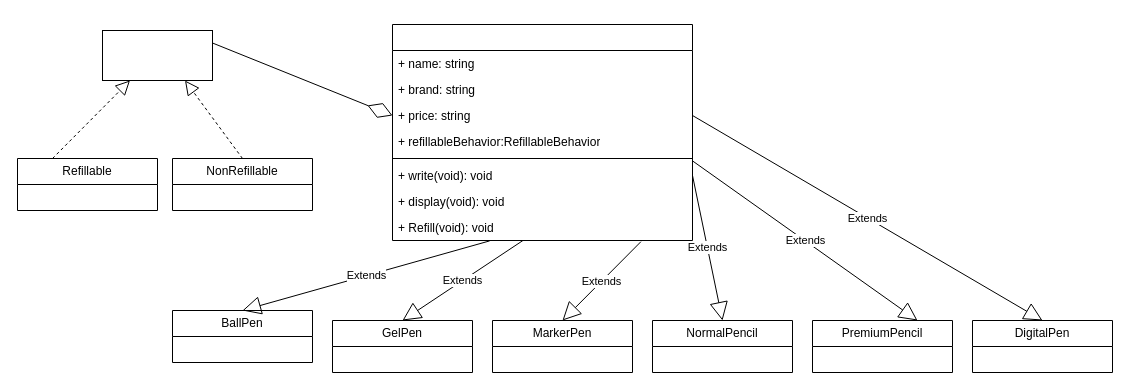
The diagram is 1130 pixels wide and 390 high, and some of its shapes have lost their labels. Each missing label, with the box of its shape:
Writer: (392, 24, 692, 240)
« RefillBehavior » Refill(): (102, 30, 212, 80)
